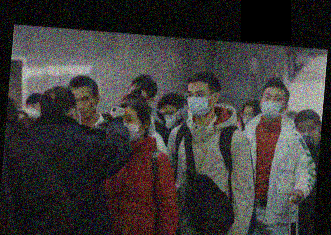with_mask: (116, 113, 142, 145), (185, 88, 212, 118), (259, 92, 285, 120), (296, 121, 317, 144), (156, 108, 177, 129), (22, 102, 40, 121), (241, 110, 253, 125)
without_mask: (72, 93, 94, 120)
